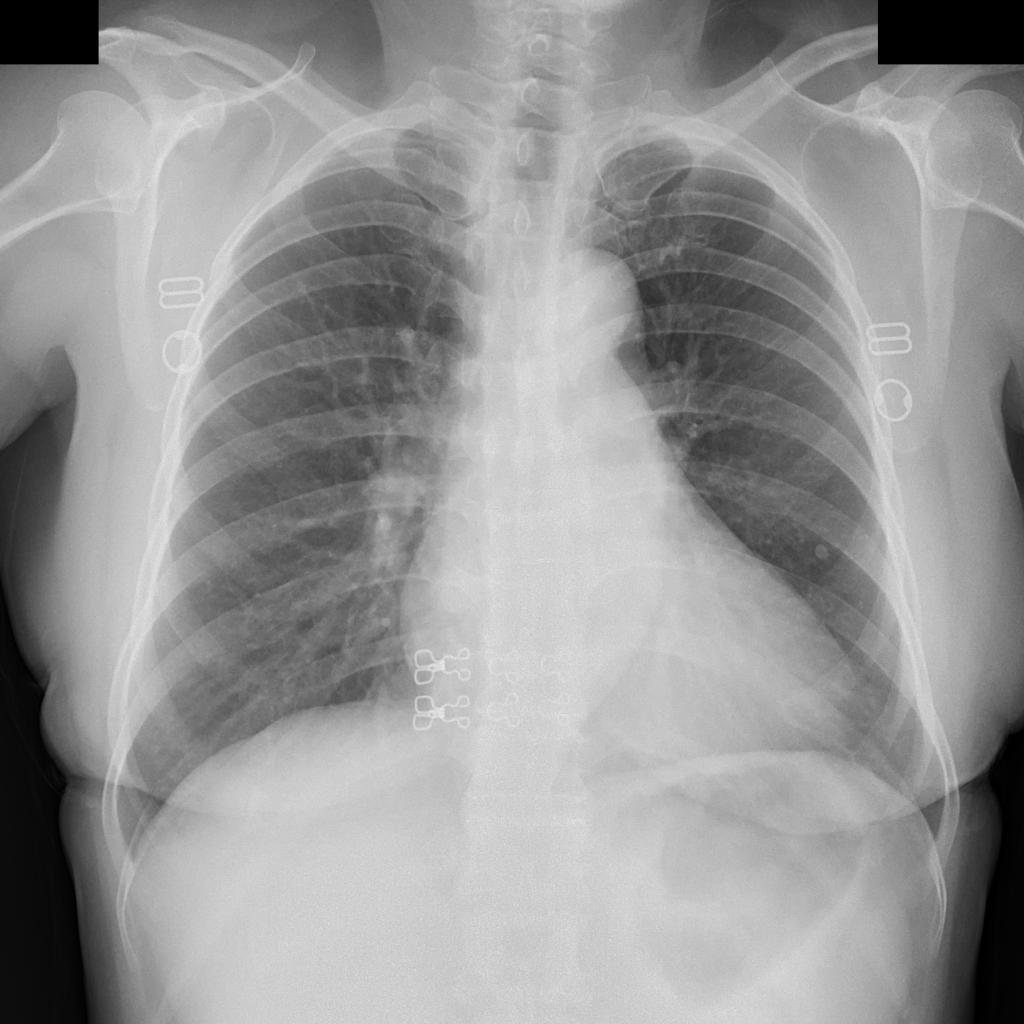Nodule: (816, 543, 831, 560)
